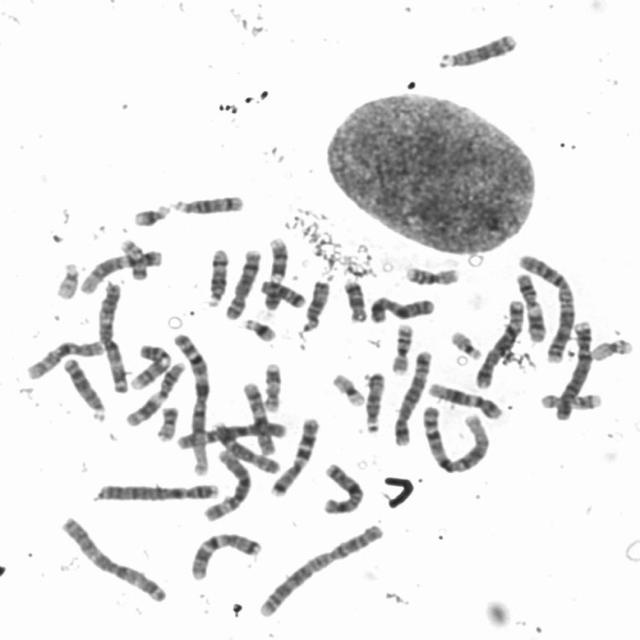A1: (168, 325, 212, 478), (416, 400, 492, 474)
A2: (252, 518, 386, 619), (513, 248, 578, 365)
A3: (54, 510, 170, 604), (92, 274, 131, 394)
B4: (549, 316, 594, 422), (88, 476, 222, 504)
B5: (470, 293, 527, 390), (388, 345, 434, 447)
C10: (21, 333, 106, 381), (236, 376, 277, 456)
C11: (120, 357, 188, 428), (510, 267, 548, 343)
C12: (75, 244, 164, 296), (423, 377, 505, 420)
C6: (197, 444, 254, 524), (170, 416, 290, 451)
C7: (264, 411, 322, 497), (184, 526, 264, 582)
C8: (206, 416, 282, 476), (218, 242, 263, 320)
C9: (257, 231, 291, 312), (125, 338, 173, 391)
D13: (433, 26, 518, 70), (58, 352, 108, 422)
D14: (167, 189, 246, 216), (200, 243, 231, 308)
D15: (296, 274, 332, 333), (358, 366, 387, 434)
E16: (385, 318, 416, 375), (399, 259, 462, 287)
E17: (535, 386, 604, 411), (257, 356, 284, 414)
E18: (254, 274, 307, 310), (338, 274, 369, 323)
F19: (326, 367, 367, 408), (586, 332, 635, 363)
F20: (114, 233, 150, 281), (150, 400, 181, 443)
G21: (128, 198, 172, 228), (238, 312, 279, 343)
G22: (49, 256, 82, 301), (445, 324, 485, 361)
X: (316, 457, 366, 516), (365, 290, 437, 324)
